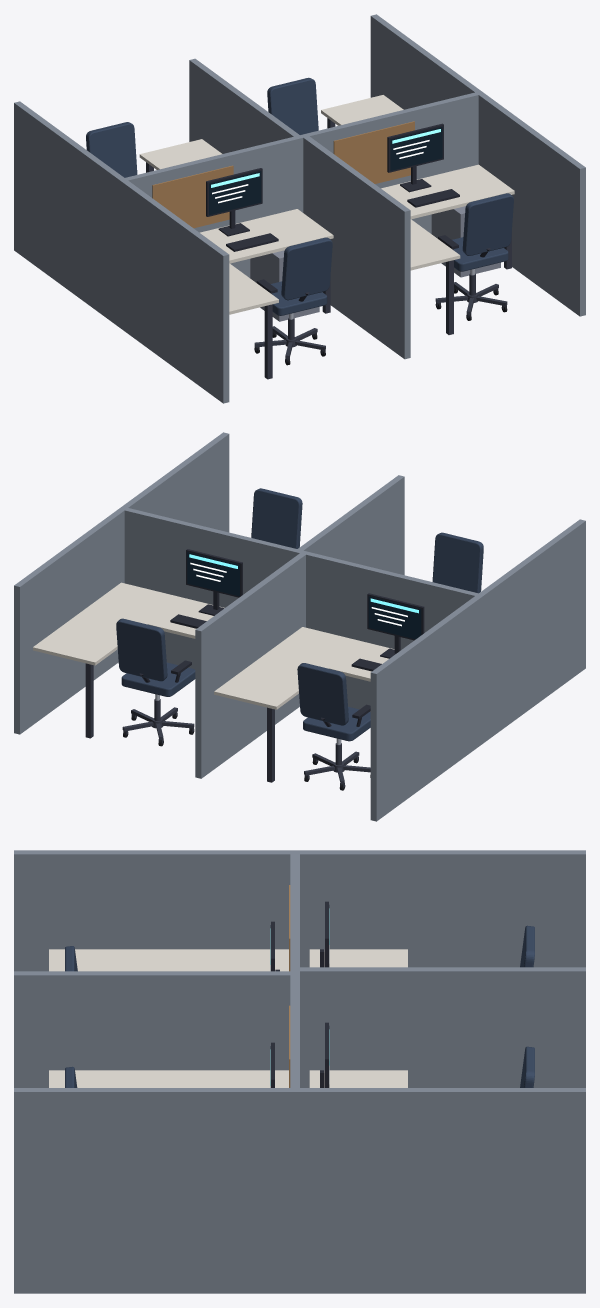
3 views of the same model, one above another, from view 1: azimuth 30°, elevation 25°; view 2: azimuth 150°, elevation 25°; view 3: azimuth 270°, elevation 25° (orthographic). The views are drawn at different scales.
Parts seen in each view (by area): view 1: cubicle_fabric, laminate, chair_fabric, cork, dark_steel, plastic_dark, monitor_screen, locker_grey; view 2: cubicle_fabric, laminate, chair_fabric, dark_steel, monitor_screen, plastic_dark; view 3: cubicle_fabric, laminate, chair_fabric, plastic_dark.
Boxes of the visible parts, x1,y1,x2,y2 form: cubicle_fabric: (14,14,585,403); laminate: (139,95,514,314); chair_fabric: (86,77,513,315); cork: (152,121,414,228); dark_steel: (146,118,511,379); plastic_dark: (206,123,490,301); monitor_screen: (209,126,442,215); locker_grey: (250,206,500,321); cubicle_fabric: (14,432,585,821); laminate: (33,582,394,709); chair_fabric: (116,488,483,741); dark_steel: (85,663,370,787); monitor_screen: (187,552,421,639); plastic_dark: (139,549,424,726); cubicle_fabric: (14,850,585,1293); laminate: (49,949,407,1087); chair_fabric: (65,925,534,1087); plastic_dark: (271,901,328,1087).
Bounding box in the file's own units: 3.6 × 1.4 × 3.6.
